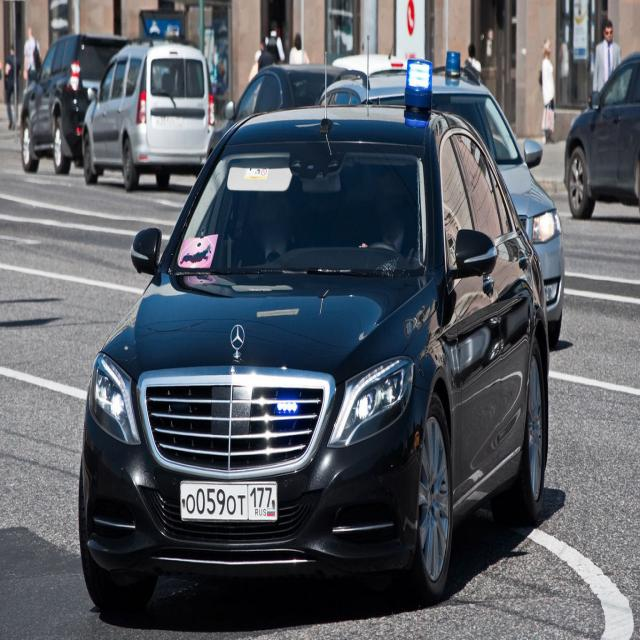number-plates: (179, 481, 278, 526)
